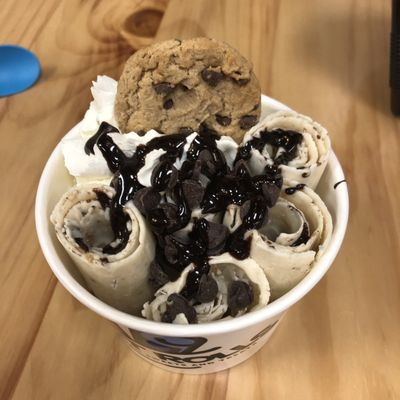sushi: (40, 71, 345, 375)
